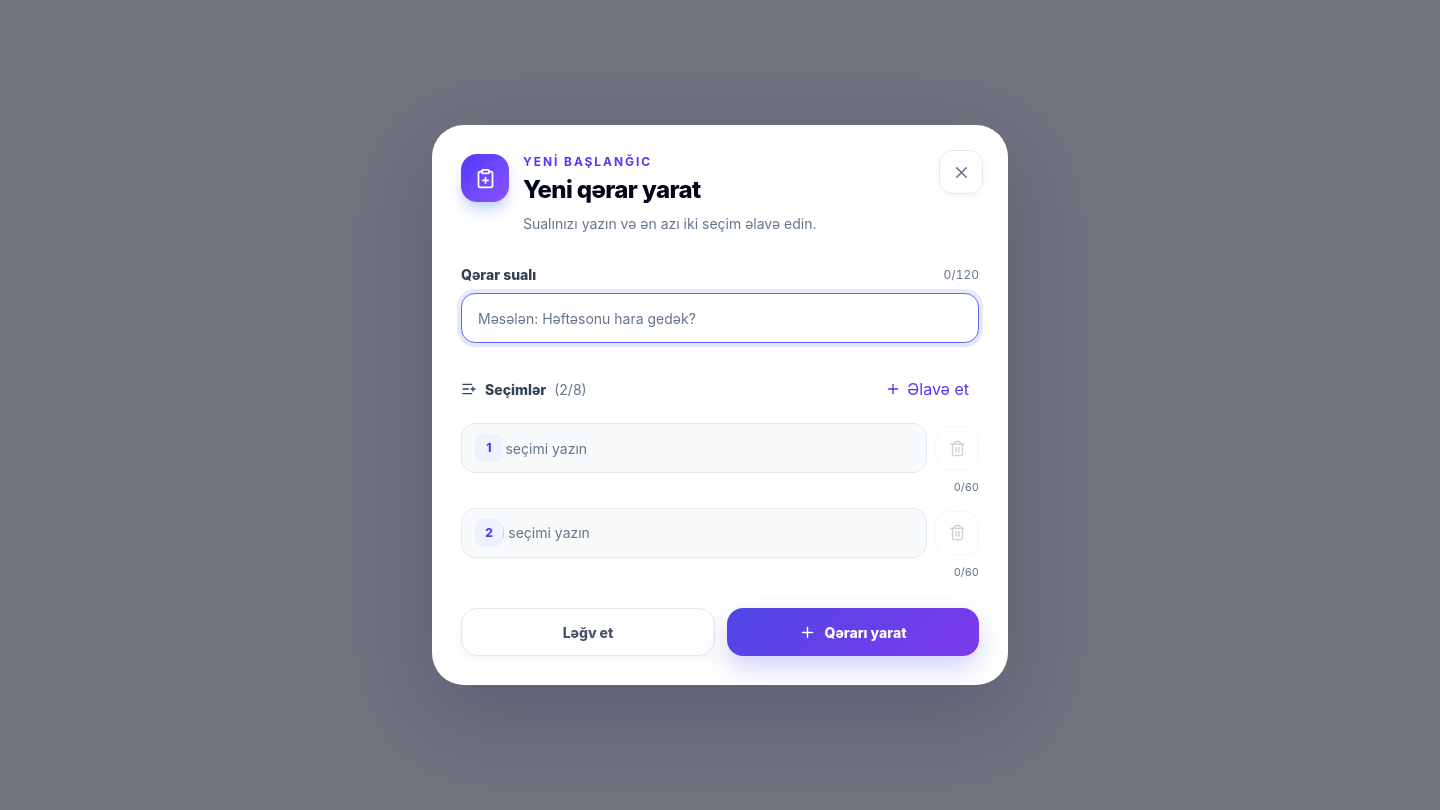
Test case: DecisionForm › shows field-level Azerbaijani feedback for an empty submission
Click the button "Qərarı yarat": point(853, 632) [727, 608, 979, 656]
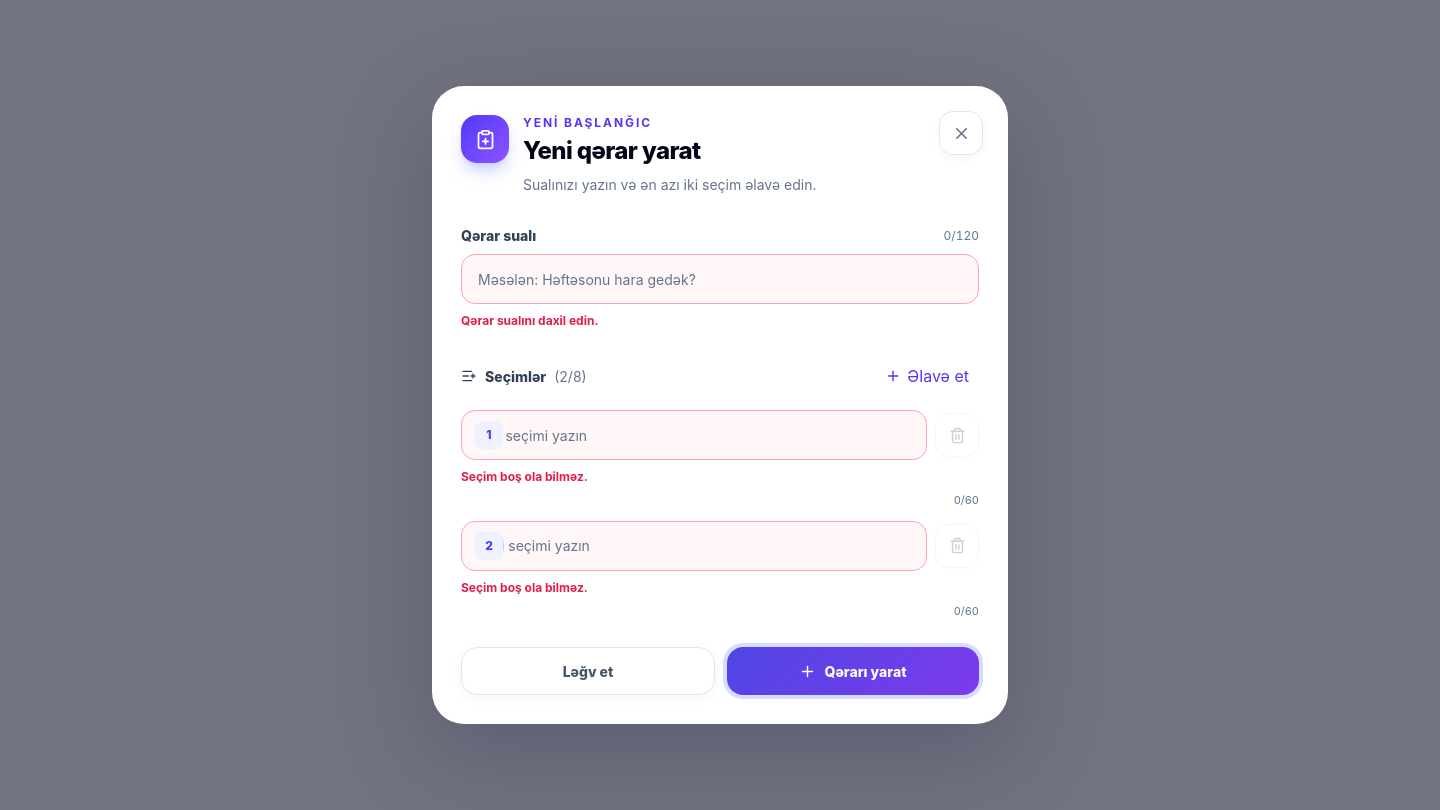
Now the text "Qərar sualını daxil edin." is shown, box [461, 313, 598, 328]
Now the text "Seçim boş ola bilməz." is shown 2 times, box [461, 469, 588, 484]; [461, 580, 588, 594]
